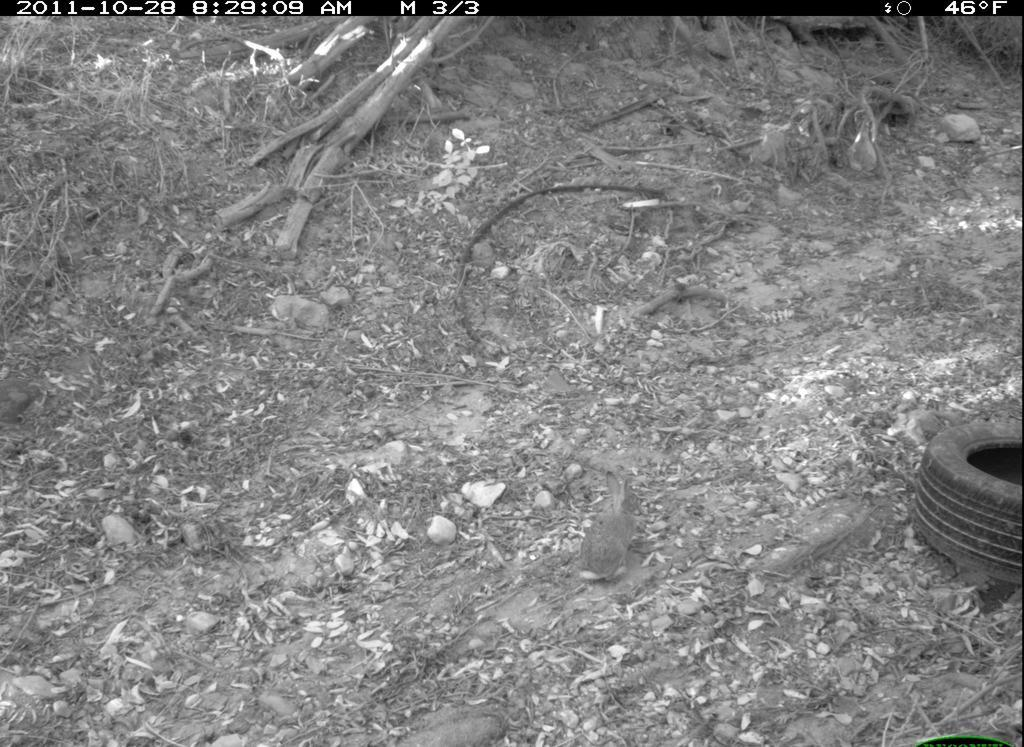rabbit: (577, 469, 646, 589)
